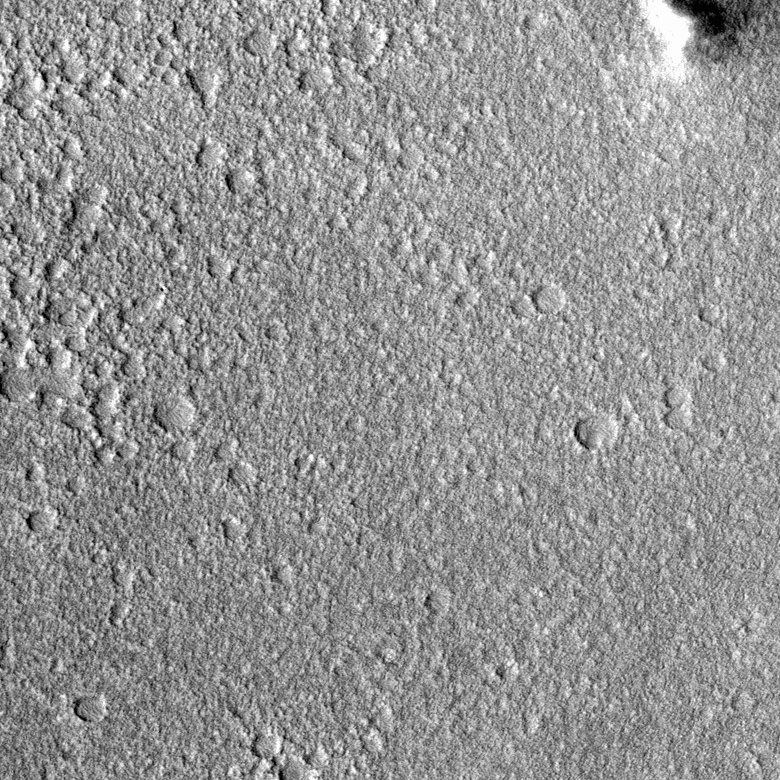dust_devil: (635, 1, 751, 79)
